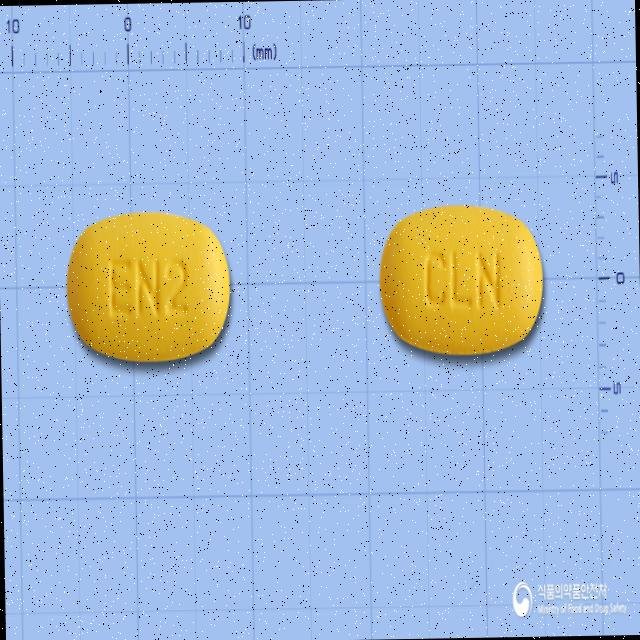Criacin: (65, 208, 232, 364), (378, 204, 545, 357)
